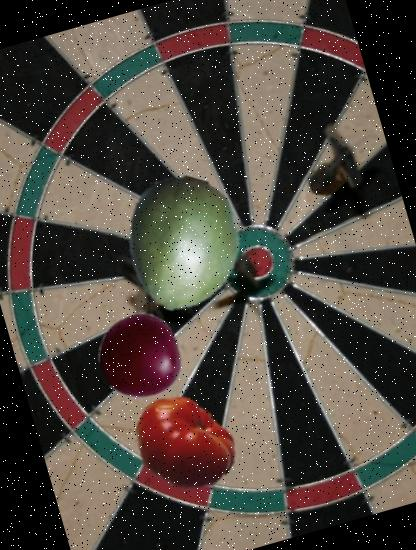Cherry: (86, 303, 192, 409)
Mango: (100, 161, 266, 327)
Tomato: (118, 379, 249, 510)
